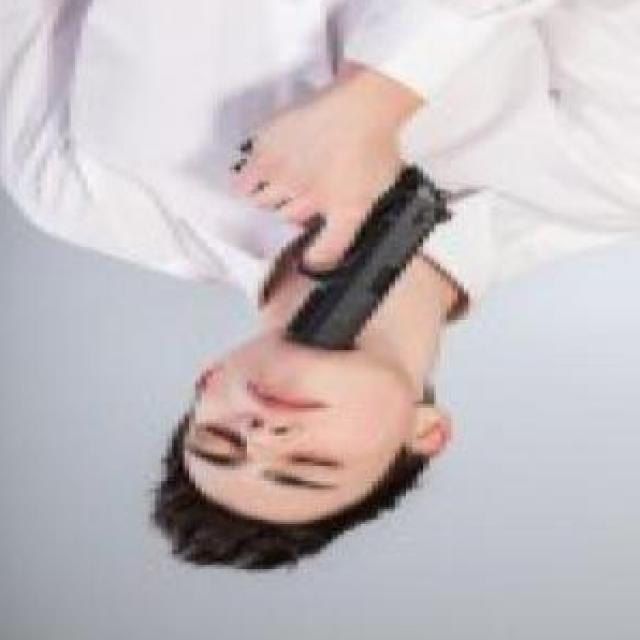pistol: (223, 128, 458, 358)
